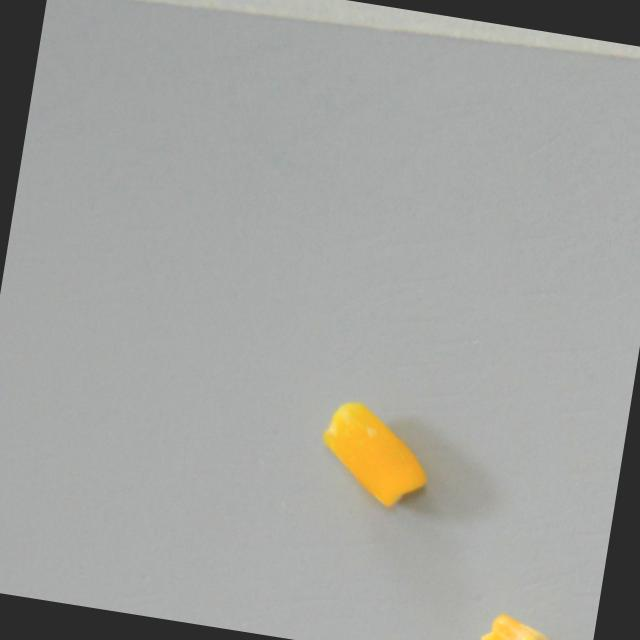dañado: (476, 607, 590, 640)
pelicula: (311, 391, 442, 515)
